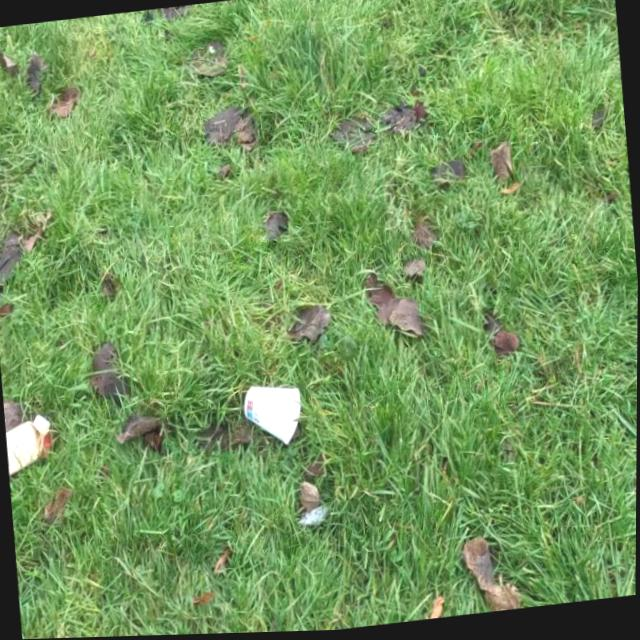Cup: (242, 381, 306, 452)
